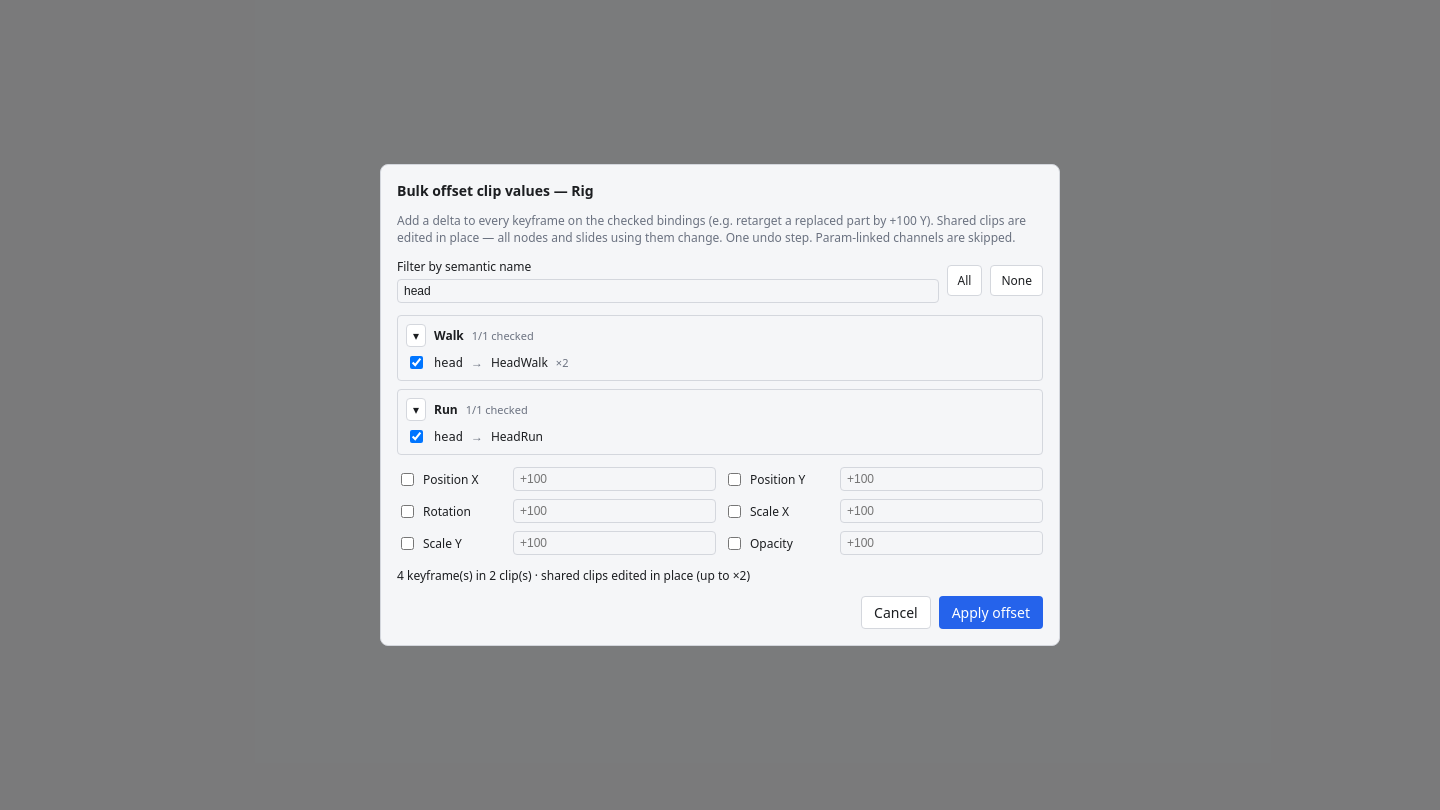
Test case: BulkOffsetModal › requires a non-zero finite delta
Click the checkbox with test id "bulk-offset-channel-positionY".
click(734, 479)  # box [728,472,741,486]
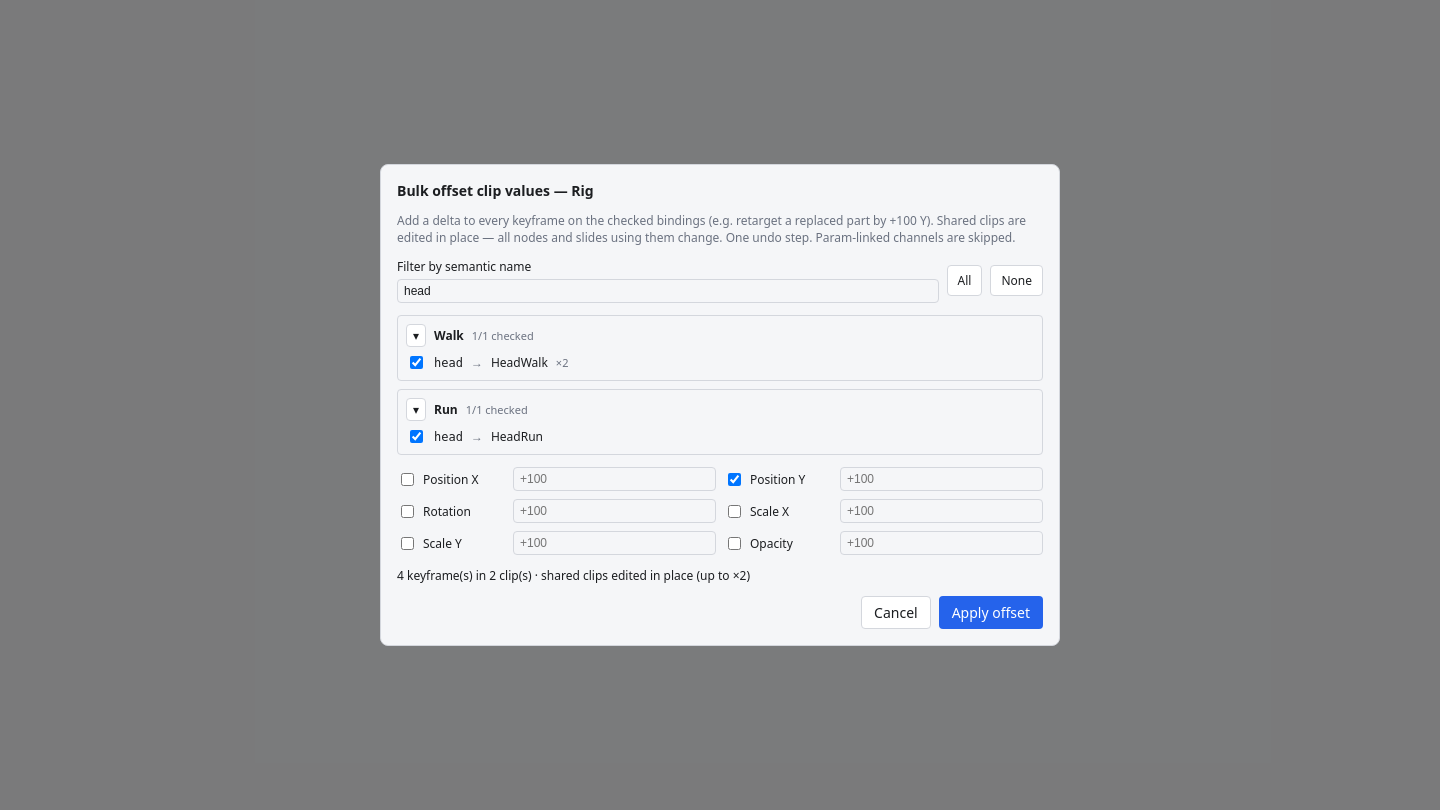
Click the button with test id "bulk-offset-confirm".
click(991, 612)  # box [939,596,1043,629]
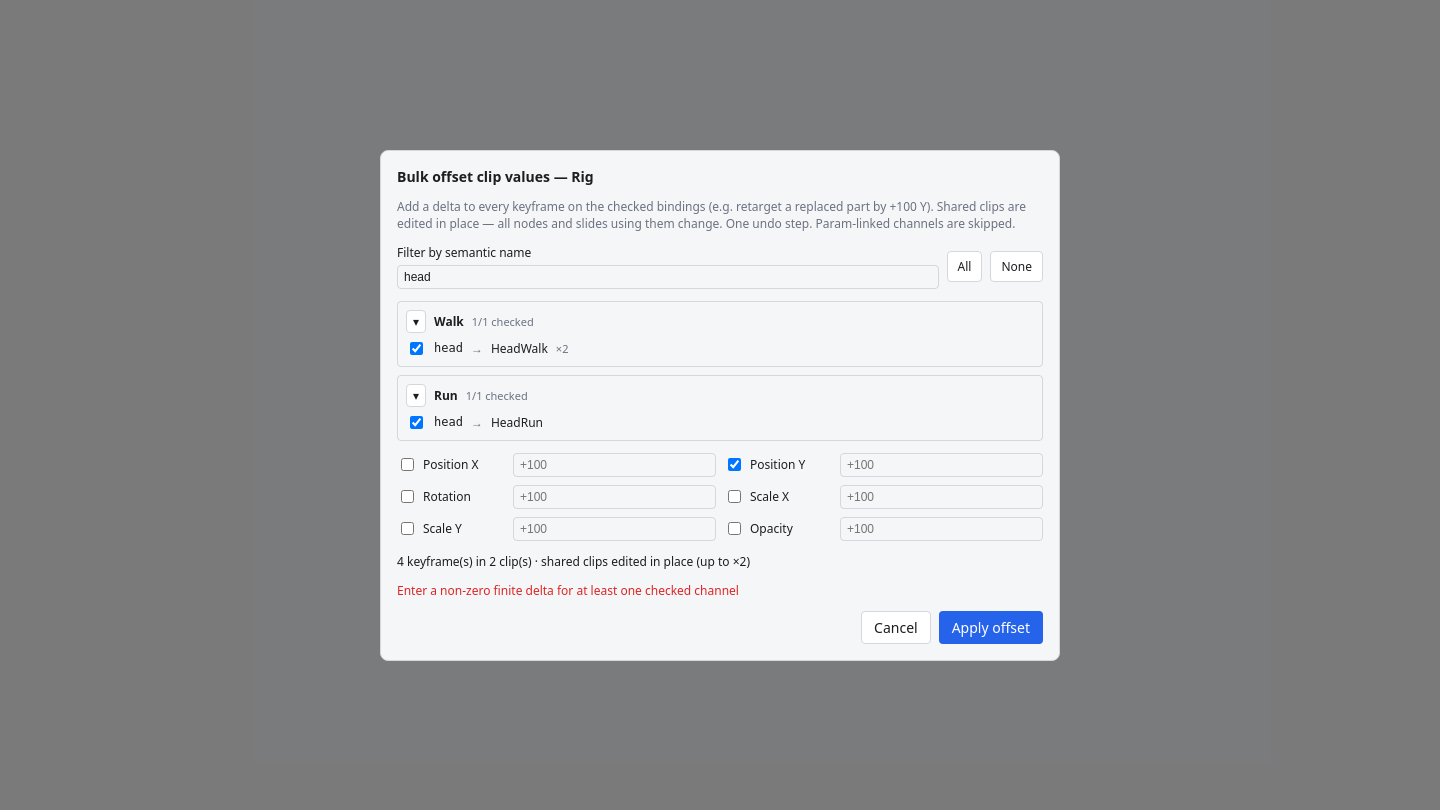
Result: the message with test id "bulk-offset-error" shows "non-zero finite" at [397,582,739,598]
